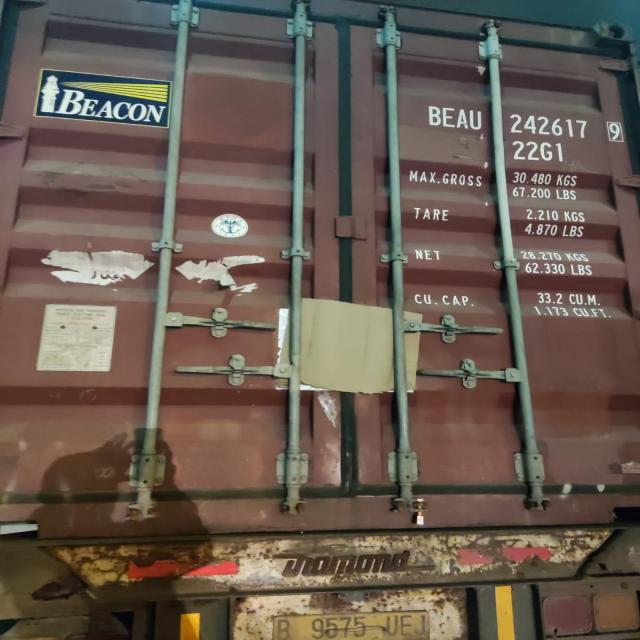seal: (414, 495, 426, 528)
